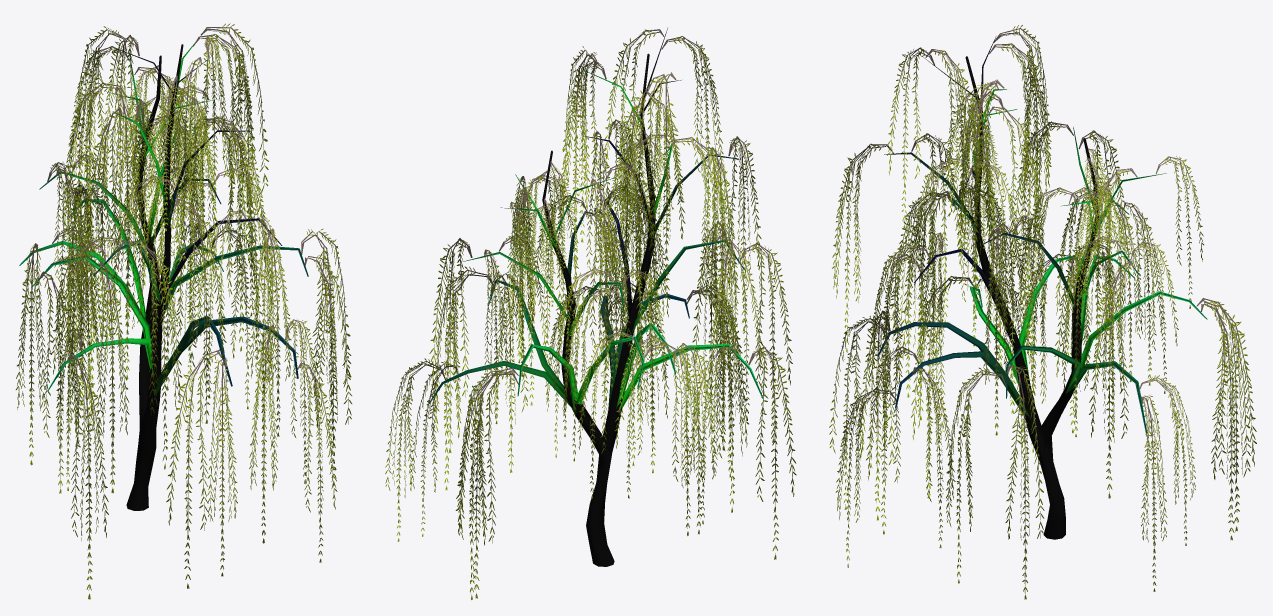
The model's file is Willow.fbx.
3 renders of one model, left to right at view 1: azimuth 30°, elevation 25°; view 2: azimuth 150°, elevation 25°; view 3: azimuth 270°, elevation 25°, orthographic. The views are drawn at different scales.
Parts seen in each view (by area): view 1: Tree_1, Tree_0; view 2: Tree_1, Tree_0; view 3: Tree_1, Tree_0.
Boxes of the visible parts, x1,y1,x2,y2 form: Tree_1: (16,23,351,599); Tree_0: (19,35,308,510); Tree_1: (385,29,796,599); Tree_0: (429,28,763,566); Tree_1: (829,25,1256,599); Tree_0: (877,36,1207,539).
Size of the model in its own units: 235 by 371 by 278.
1 material, 1 textured.
